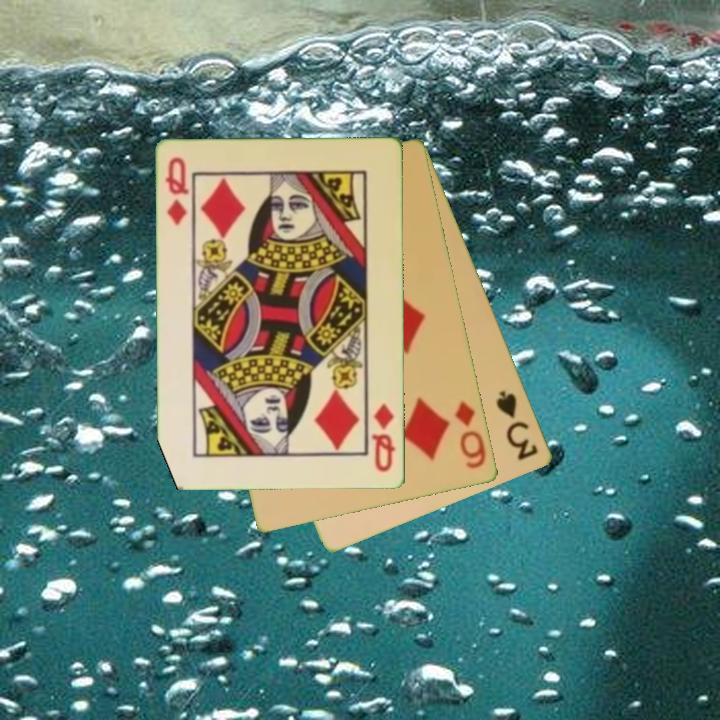3s: (493, 387, 542, 464)
6d: (452, 398, 490, 472)
Qd: (369, 401, 399, 476), (163, 154, 192, 229)
